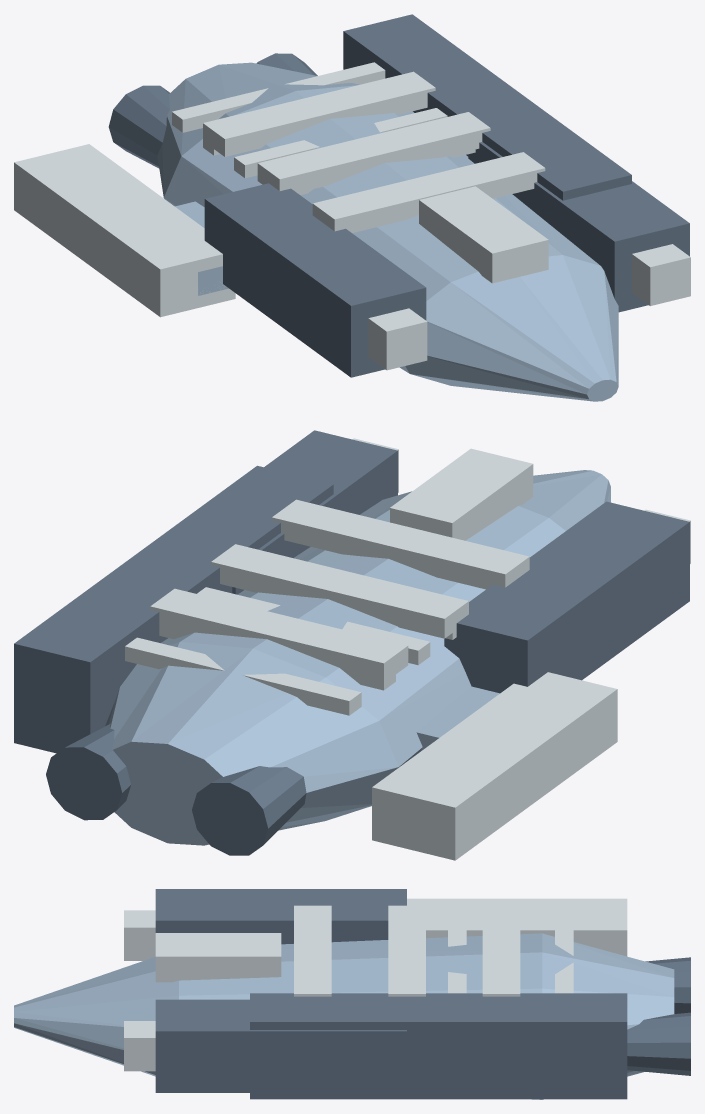
The picture shows the model from 3 angles, top to bottom: view 1: azimuth 30°, elevation 25°; view 2: azimuth 150°, elevation 25°; view 3: azimuth 270°, elevation 25°; orthographic projection. The views are drawn at different scales.
Size of the model in its own units: 2.59 by 0.9752 by 4.39.
